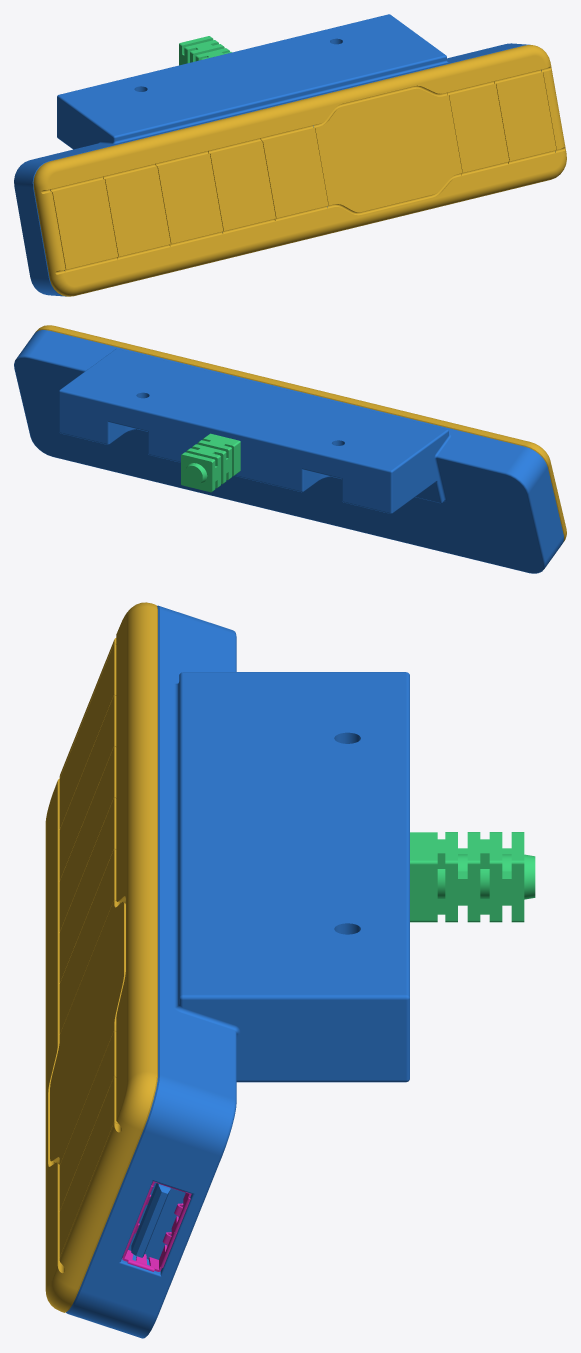
Rendered from Handset.fbx.
The picture shows the model from 3 angles, top to bottom: view 1: azimuth 30°, elevation 25°; view 2: azimuth 150°, elevation 25°; view 3: azimuth 270°, elevation 25°; orthographic projection. The views are drawn at different scales.
Parts seen in each view (by area): view 1: Handset; view 2: Handset; view 3: Handset.
Boxes of the visible parts, x1=… form: Handset: x1=14, y1=14, x2=566, y2=296; Handset: x1=14, y1=325, x2=566, y2=573; Handset: x1=45, y1=602, x2=535, y2=1338.
Size of the model in its own units: 0.0679 by 0.0409 by 0.1648.
